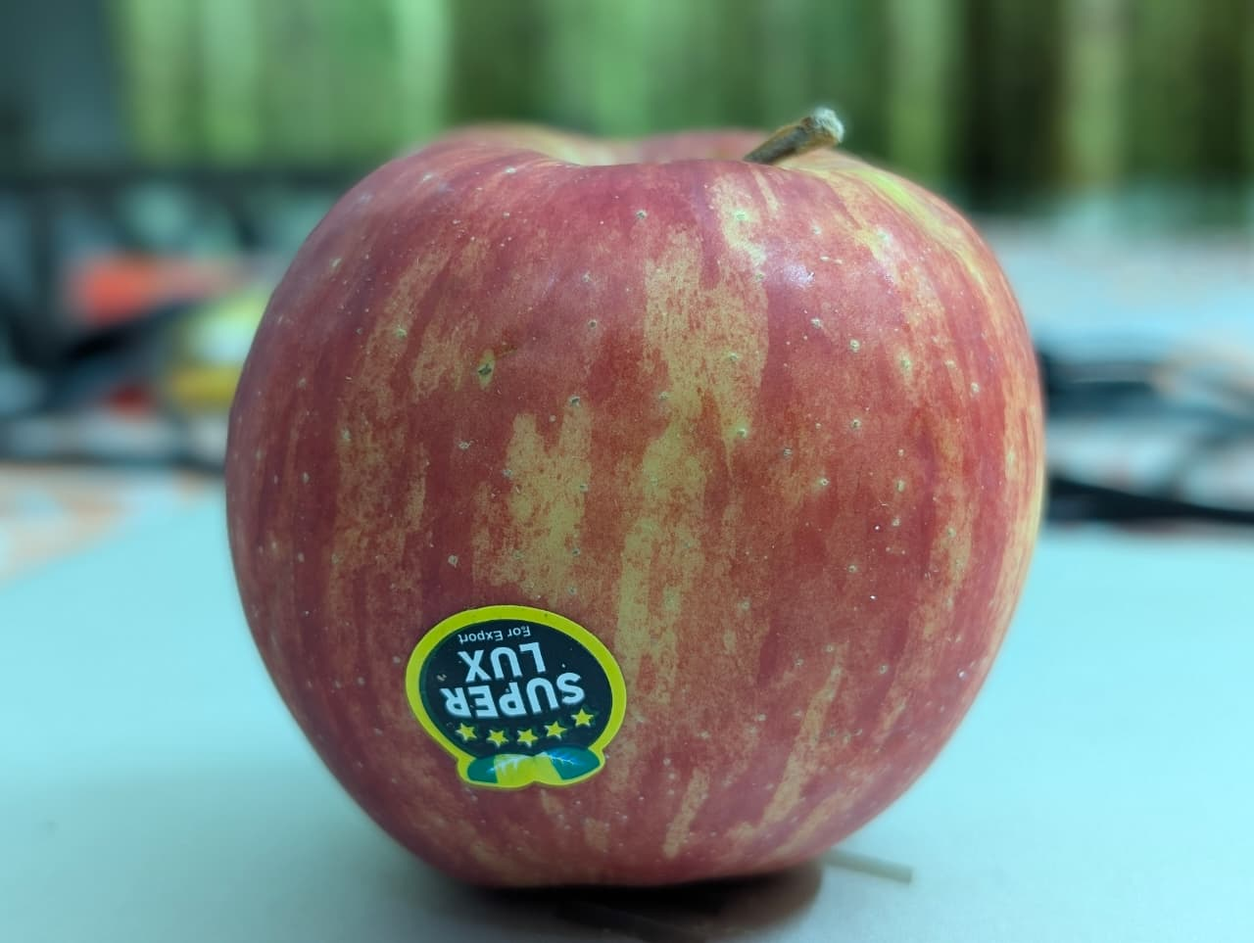apple: (95, 148, 1179, 885)
